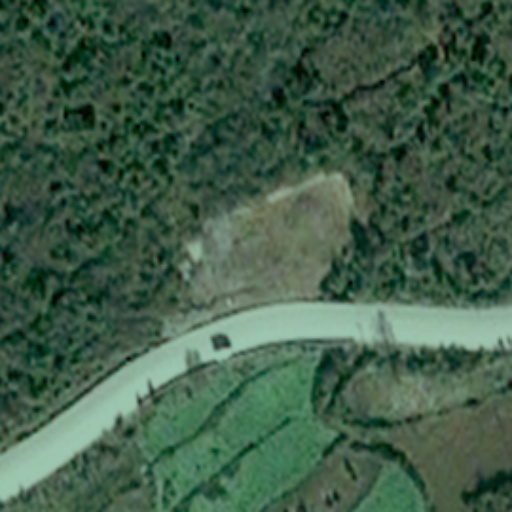landslide: (187, 170, 358, 304)
